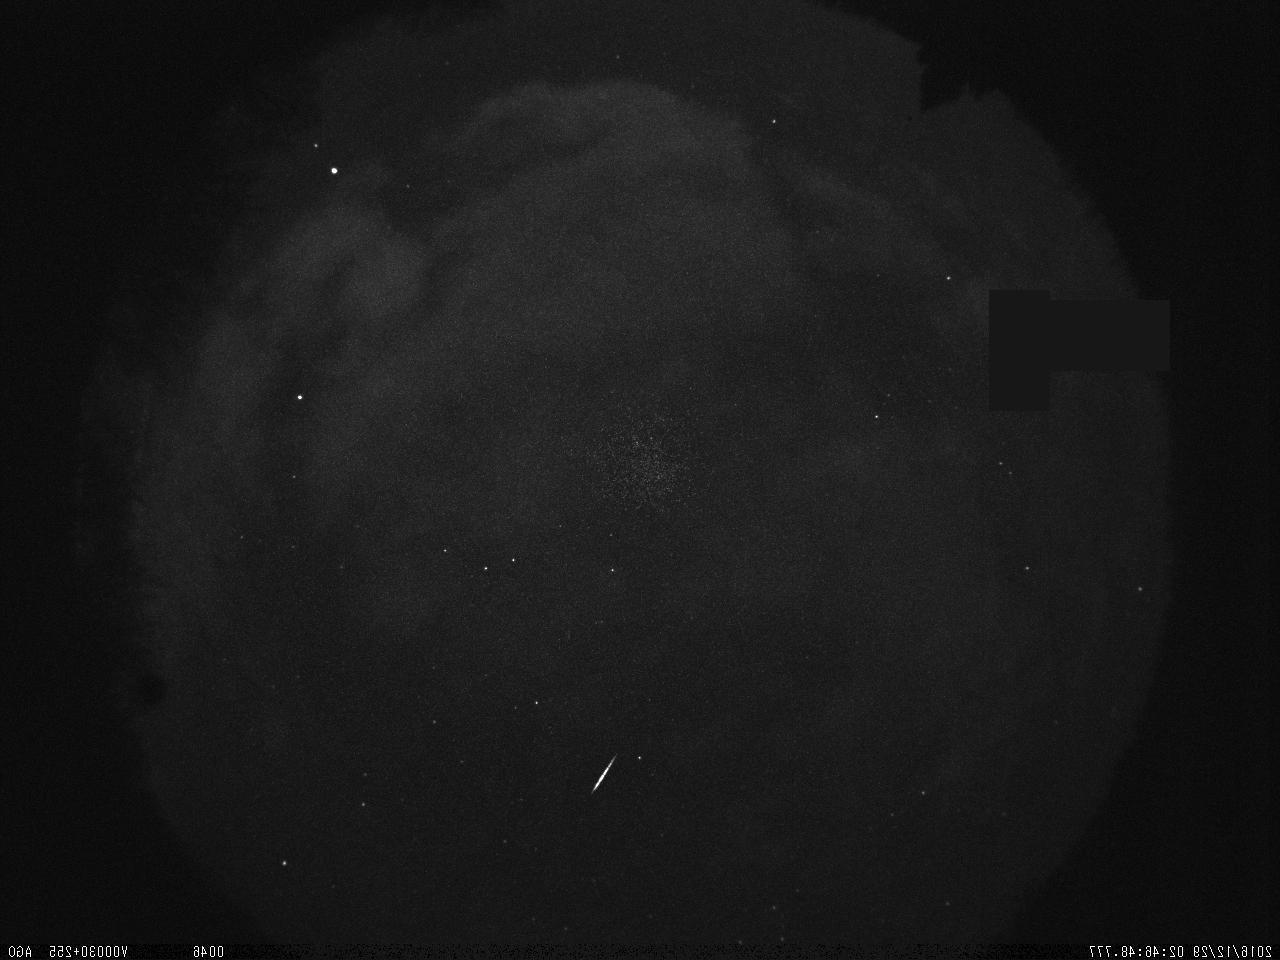meteor: (577, 736, 628, 814)
